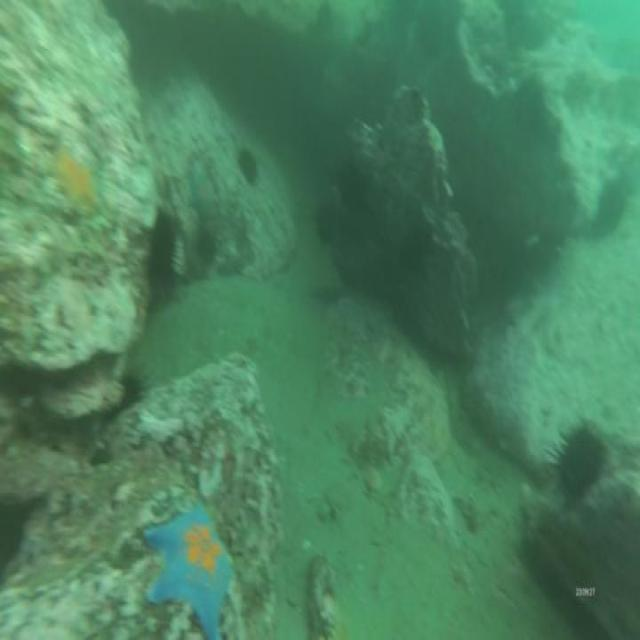echinus: (556, 417, 610, 503), (237, 141, 257, 185), (317, 197, 335, 245)
starfish: (142, 502, 236, 638), (187, 163, 216, 223)
